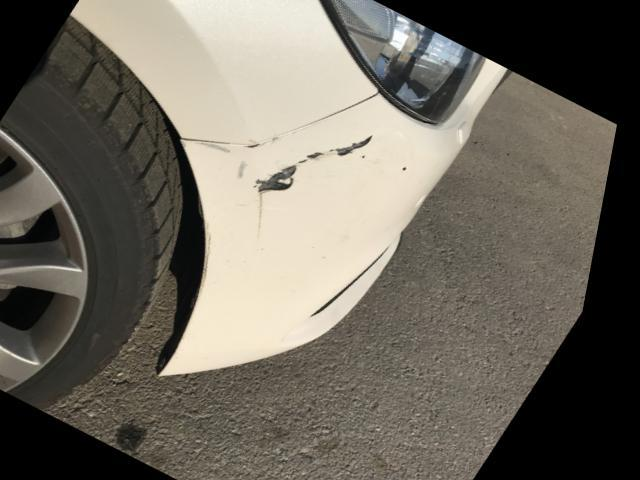scratch: (199, 134, 382, 236)
